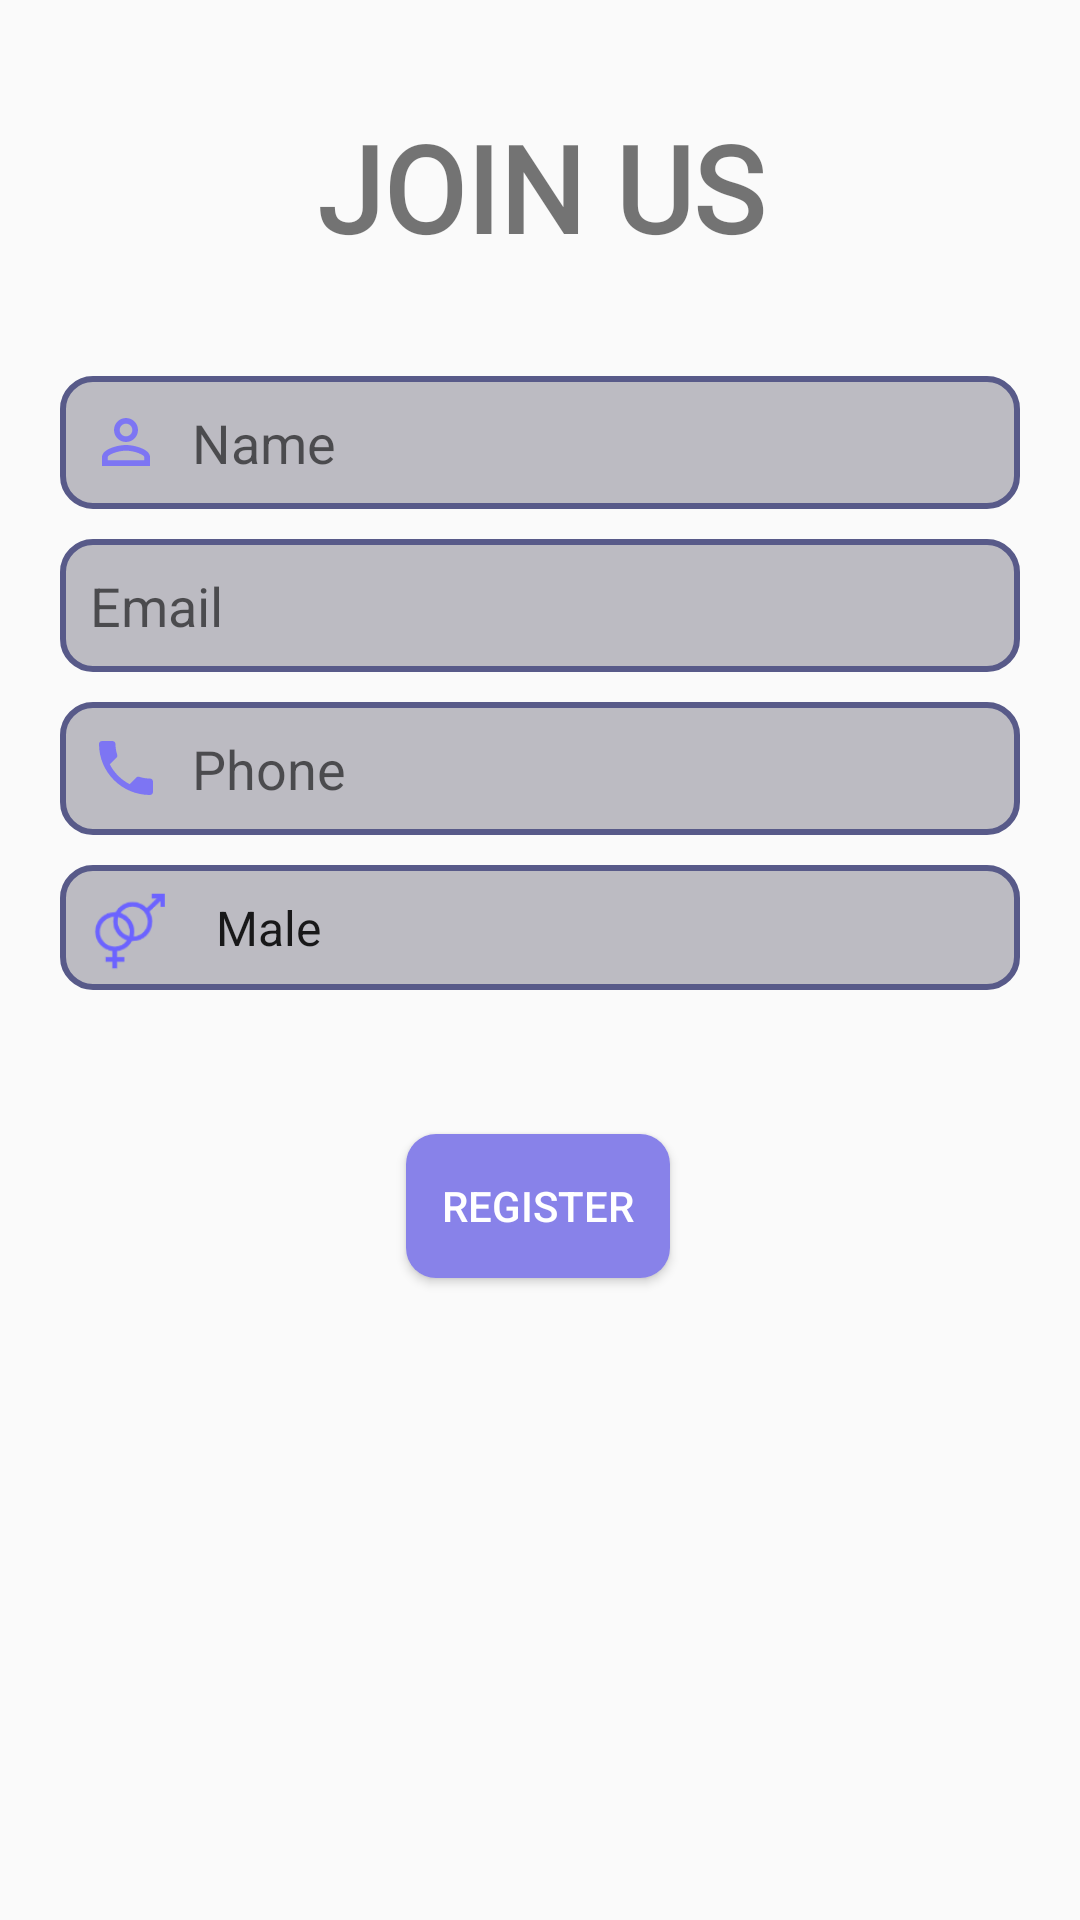

Named icons in this screenshot (1080w x 1920h) and their bounding boxes, [x1,y1,x2,y2]:
gender: [95,894,165,969]
